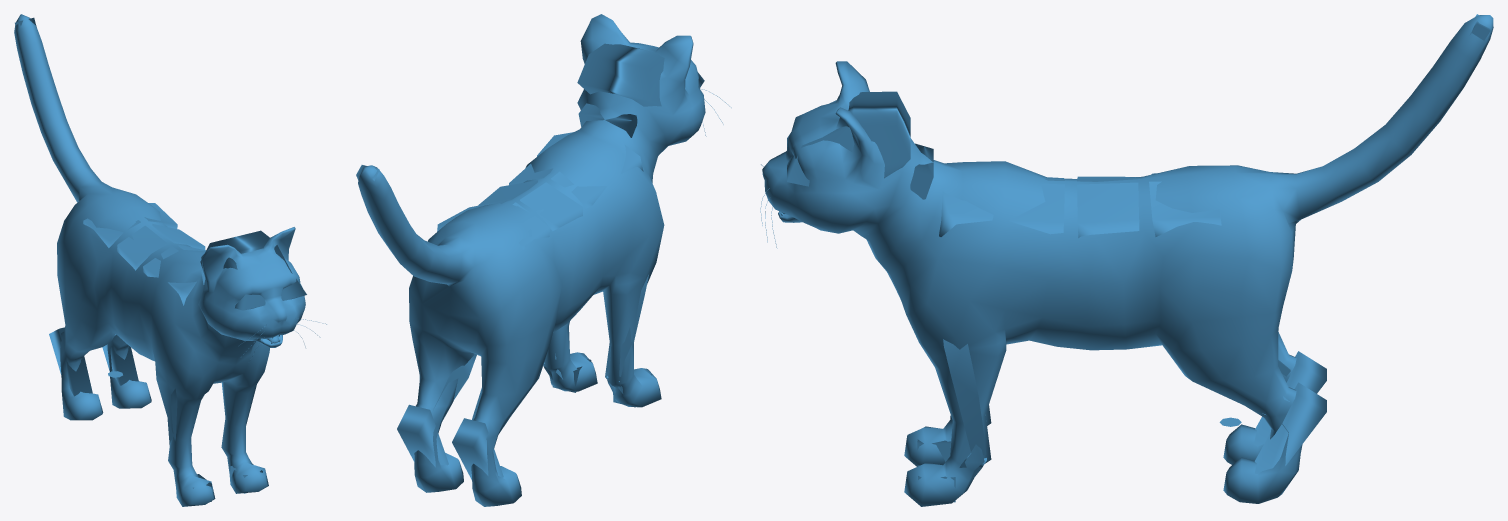
The model's file is Cat.obj.
3 views of the same model, side by side, from view 1: azimuth 30°, elevation 25°; view 2: azimuth 150°, elevation 25°; view 3: azimuth 270°, elevation 25° (orthographic). The views are drawn at different scales.
Visible parts, largest first — view 1: (null); view 2: (null); view 3: (null).
Boxes of the visible parts, left/top/right/bottom form: (null): left=14, top=14, right=326, bottom=506; (null): left=356, top=14, right=731, bottom=506; (null): left=760, top=14, right=1493, bottom=506.
Size of the model in its own units: 0.2605 by 0.8329 by 1.18.
